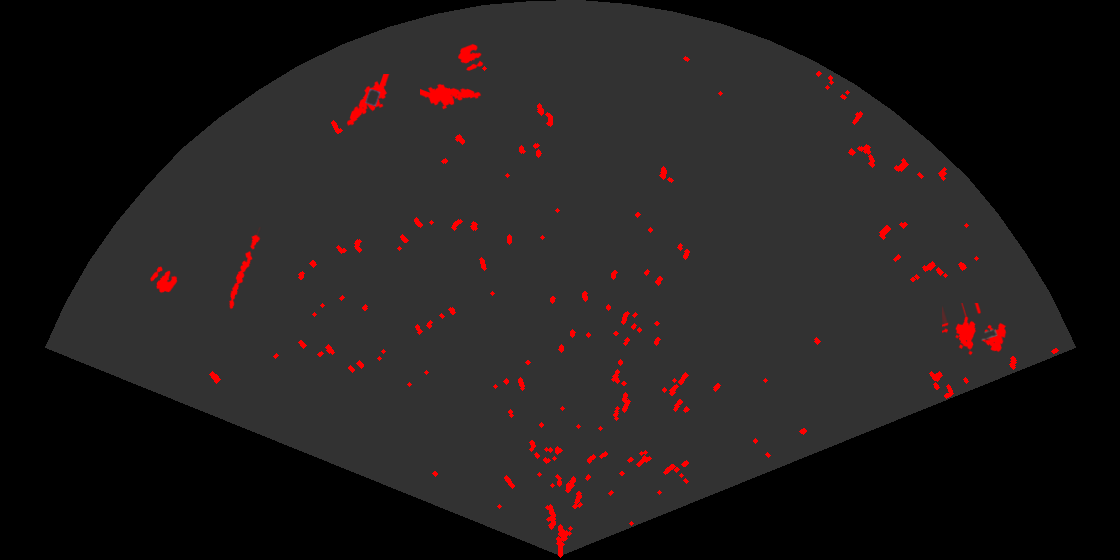ball: (149, 265, 179, 295), (456, 42, 485, 73)
cage: (942, 303, 1008, 357)
chain: (227, 227, 262, 311)
frogman: (345, 74, 391, 128), (420, 82, 483, 111)
